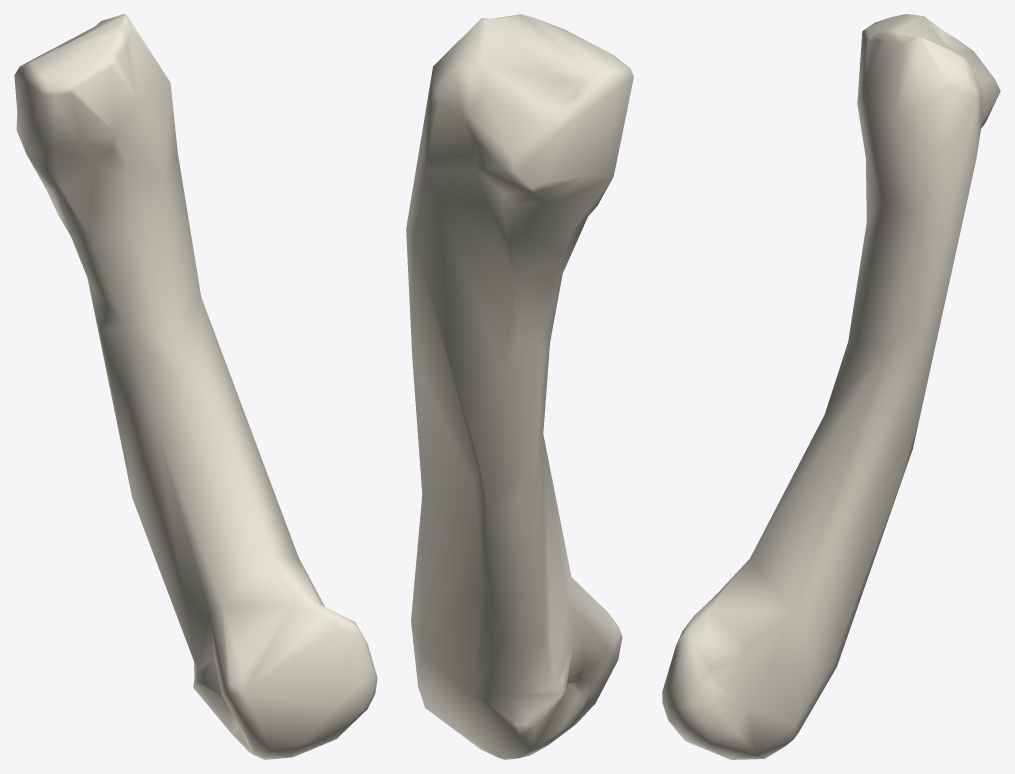
3 renders of one model, left to right at view 1: azimuth 30°, elevation 25°; view 2: azimuth 150°, elevation 25°; view 3: azimuth 270°, elevation 25°, orthographic. The views are drawn at different scales.
Visible parts, largest first — view 1: ZA_63f1fe6563a53bda; view 2: ZA_63f1fe6563a53bda; view 3: ZA_63f1fe6563a53bda.
Part boxes in pixels (<box>): ZA_63f1fe6563a53bda: <box>14,14,377,759</box>; ZA_63f1fe6563a53bda: <box>406,14,633,759</box>; ZA_63f1fe6563a53bda: <box>662,14,1000,759</box>.
Bounding box in the file's own units: 0.0209 × 0.057 × 0.0255.
